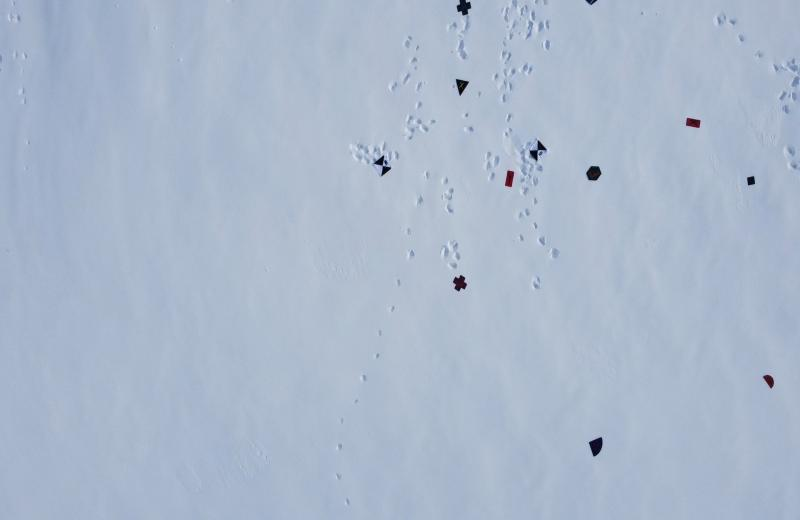Cross: (452, 274, 468, 293), (454, 0, 473, 16)
Hexagon: (585, 164, 601, 183)
Pentagon: (583, 0, 599, 6)
Quarter Circle: (587, 436, 605, 458)
Rectangle: (503, 169, 516, 187), (686, 117, 700, 129)
Semi Circle: (762, 373, 776, 390)
Square: (745, 175, 756, 187)
Triangle: (453, 79, 471, 98)
